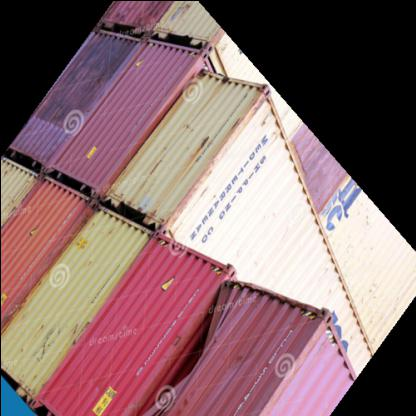Damage: (150, 310, 226, 392)
